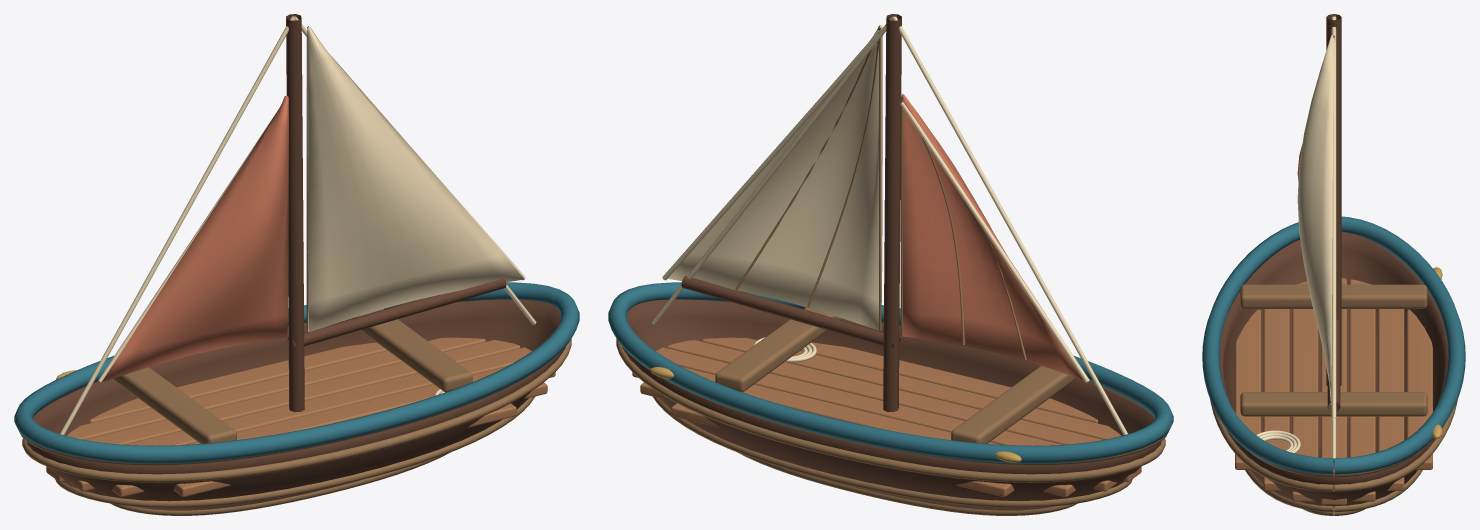
File: harbor_sailboat_crafted.glb
3 views of the same model, side by side, from view 1: azimuth 30°, elevation 25°; view 2: azimuth 150°, elevation 25°; view 3: azimuth 270°, elevation 25° (orthographic). The views are drawn at different scales.
Visible parts, largest first — view 1: Canvas stripe, Oiled chestnut joinery, Terracotta sailcloth, Honey oak door boards, Polished worn timber edge, Teal ceramic glaze; view 2: Canvas stripe, Oiled chestnut joinery, Polished worn timber edge, Honey oak door boards, Terracotta sailcloth, Teal ceramic glaze; view 3: Honey oak door boards, Oiled chestnut joinery, Teal ceramic glaze, Polished worn timber edge, Canvas stripe.
Boxes of the visible parts, x1,y1,x2,y2 form: Canvas stripe: [60, 15, 536, 434]; Oiled chestnut joinery: [26, 14, 565, 510]; Terracotta sailcloth: [101, 96, 288, 382]; Honey oak door boards: [46, 337, 555, 497]; Polished worn timber edge: [20, 26, 571, 515]; Teal ceramic glaze: [14, 282, 579, 463]; Canvas stripe: [651, 15, 1127, 434]; Oiled chestnut joinery: [622, 14, 1161, 510]; Polished worn timber edge: [616, 26, 1167, 515]; Honey oak door boards: [632, 337, 1141, 497]; Terracotta sailcloth: [900, 94, 1083, 379]; Teal ceramic glaze: [608, 282, 1173, 463]; Honey oak door boards: [1235, 278, 1432, 504]; Oiled chestnut joinery: [1219, 14, 1448, 507]; Teal ceramic glaze: [1202, 216, 1465, 474]; Polished worn timber edge: [1210, 35, 1457, 515]; Canvas stripe: [1256, 15, 1336, 458].
Bounding box in the file's own units: 3.5 × 2.82 × 1.56.
